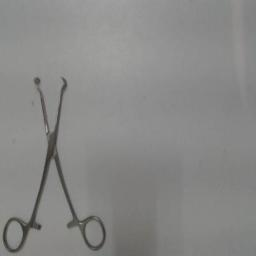Babcock Tissue Forceps: (2, 72, 108, 254)
